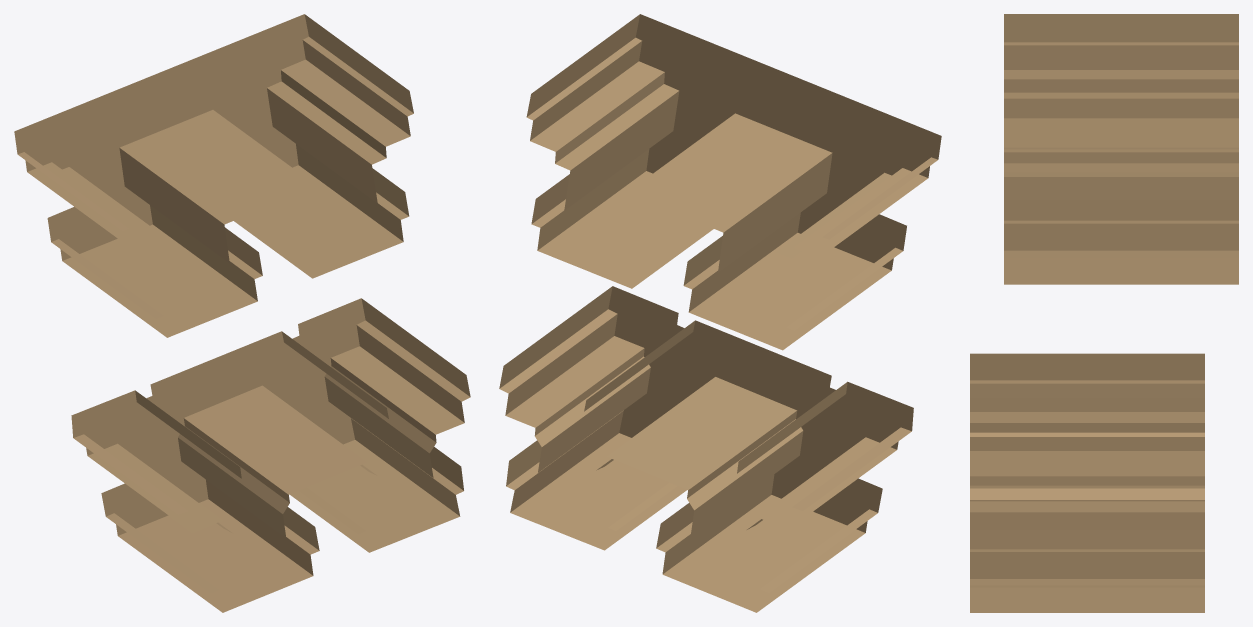
3 views of the same model, side by side, from view 1: azimuth 30°, elevation 25°; view 2: azimuth 150°, elevation 25°; view 3: azimuth 270°, elevation 25° (orthographic). The views are drawn at different scales.
Parts seen in each view (by area): view 1: 0_1_2_0_3_1_3_0; view 2: 0_1_2_0_3_1_3_0; view 3: 0_1_2_0_3_1_3_0.
Part boxes in pixels (<box>): 0_1_2_0_3_1_3_0: <box>14,14,470,612</box>; 0_1_2_0_3_1_3_0: <box>499,14,941,612</box>; 0_1_2_0_3_1_3_0: <box>970,14,1238,612</box>.
Size of the model in its own units: 49.87 by 65.45 by 30.9.
